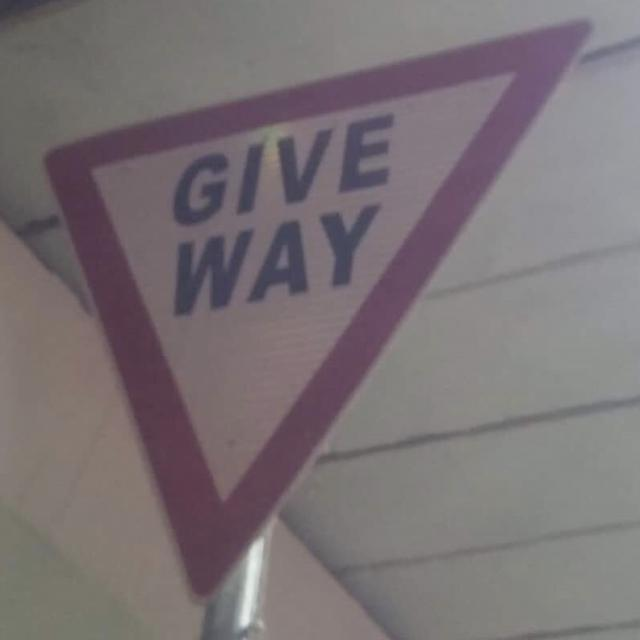give way: (42, 18, 596, 591)
